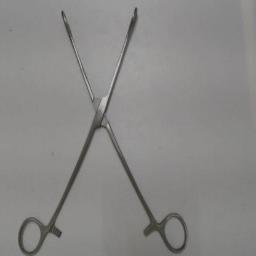Sponge Forceps: (18, 4, 190, 256)
